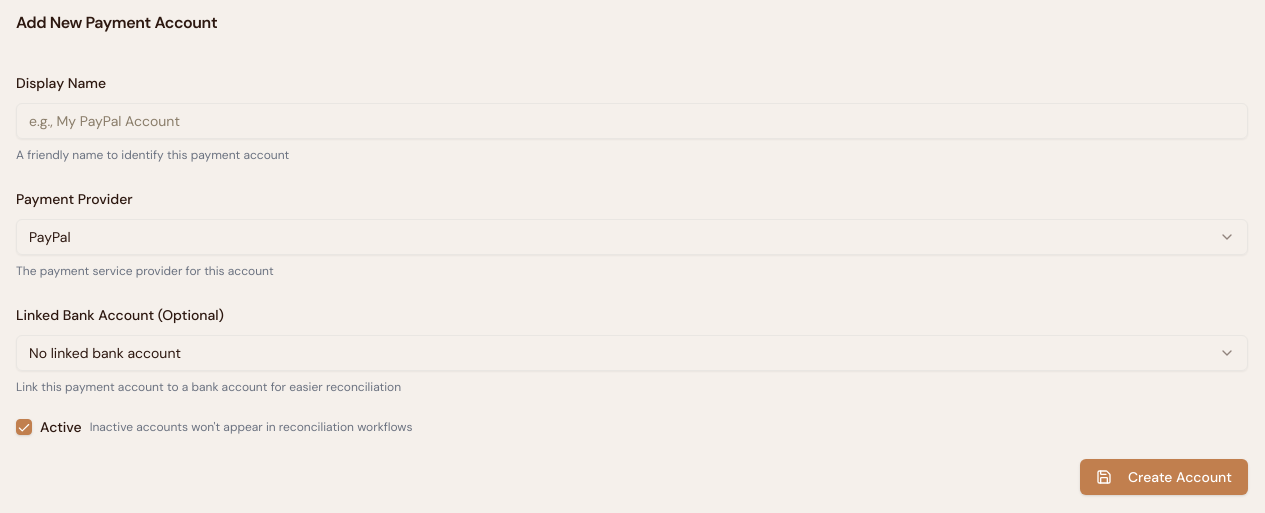
Test: PaymentAccountForm › should disable submit button while loading
The width and height of the screenshot is (1265, 513).
Type "Test Account" into the field labelled "Display Name". click: (632, 121)
box: [16,103,1248,139]
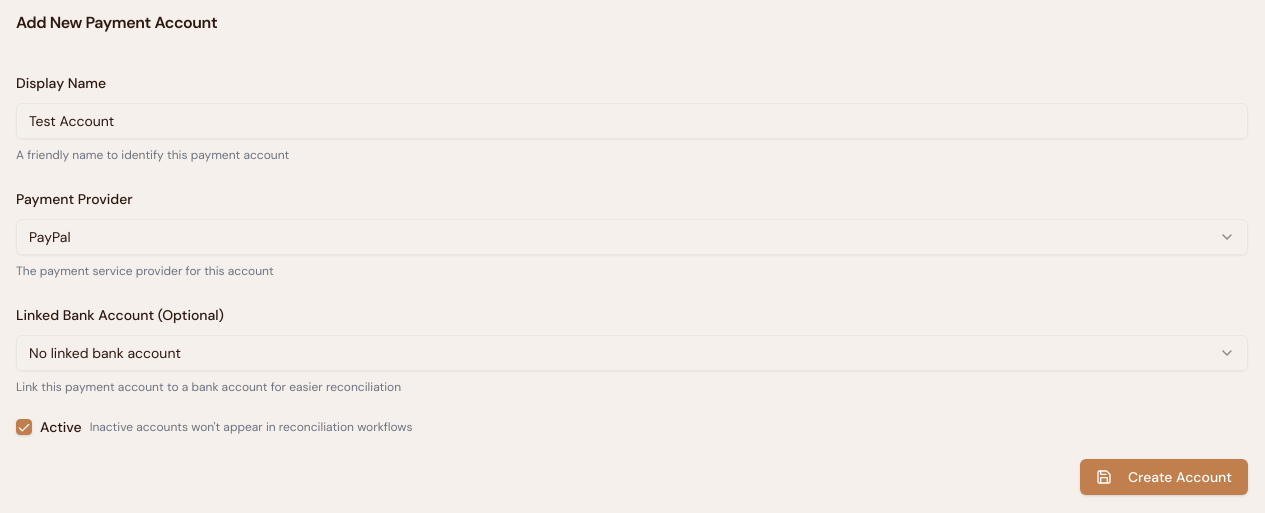
Click the button "Create Account". click: (1164, 477)
box: [1080,459,1248,495]
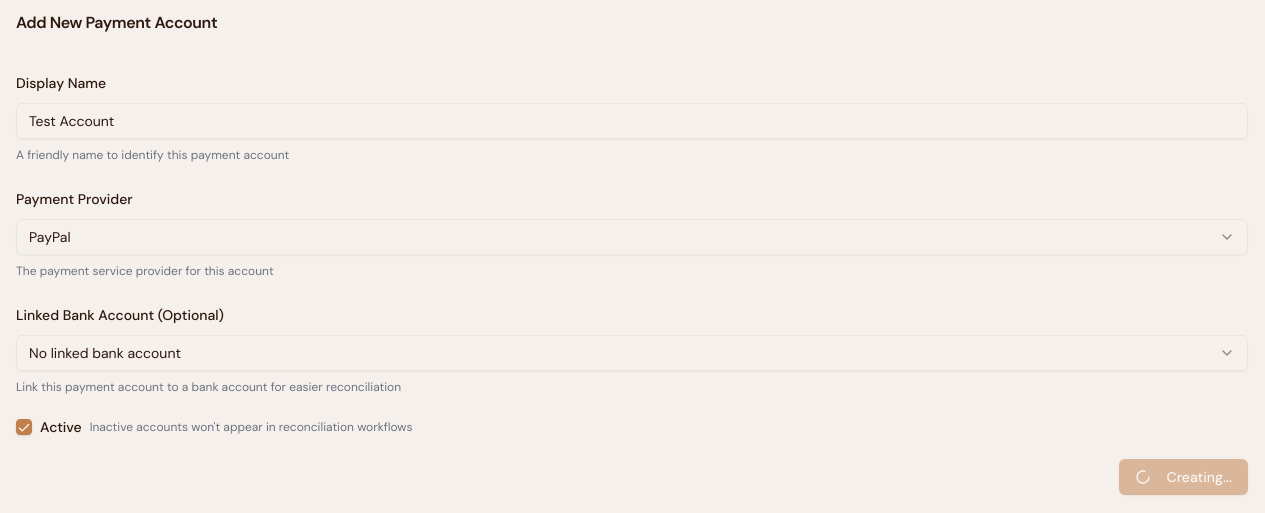
Expected: the button named "Create Account" is disabled, [1119,459,1248,495]
